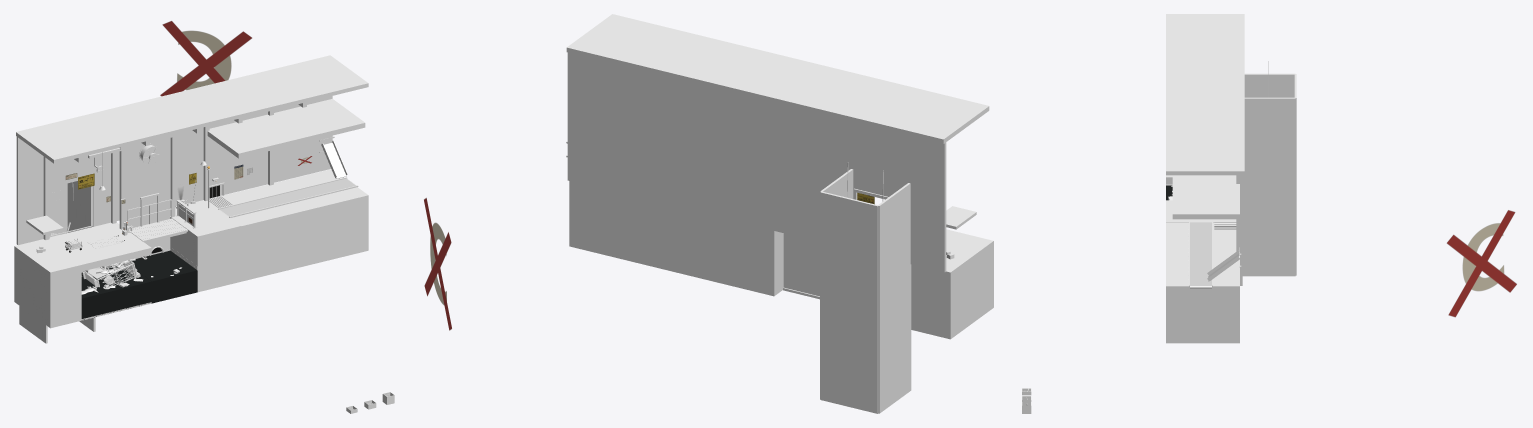
3 renders of one model, left to right at view 1: azimuth 30°, elevation 25°; view 2: azimuth 150°, elevation 25°; view 3: azimuth 270°, elevation 25°, orthographic. The views are drawn at different scales.
Parts seen in each view (by area): view 1: G4Walls, G4Floor, G4Shaft, AtriumRingC, G4Lift1Shaft, StoryFallWater, Sump7Water, G4Beams, MECH_ReturnsBelt_dl08_belt, G4HeadFrame, StoryFallWreck, MECH_CounterweightLift_dl08_platform (+5 smaller); view 2: G4Walls, G4Floor, G4Lift1Shaft, G4Shaft, AtriumRingC; view 3: G4Walls, G4Lift1Shaft, G4Floor, AtriumRingC, MECH_ReturnsBelt_dl08_belt.
Boxes of the visible parts, x1,y1,x2,y2 form: G4Walls: [16, 55, 368, 245]; G4Floor: [14, 169, 368, 328]; G4Shaft: [124, 138, 170, 249]; AtriumRingC: [160, 21, 251, 96]; G4Lift1Shaft: [19, 181, 95, 343]; StoryFallWater: [81, 263, 151, 319]; Sump7Water: [132, 250, 197, 303]; G4Beams: [43, 102, 306, 240]; MECH_ReturnsBelt_dl08_belt: [220, 178, 355, 216]; G4HeadFrame: [88, 134, 175, 229]; StoryFallWreck: [81, 255, 147, 294]; MECH_CounterweightLift_dl08_platform: [129, 218, 187, 242]; G4Walls: [566, 14, 989, 272]; G4Floor: [569, 181, 993, 339]; G4Lift1Shaft: [820, 169, 911, 413]; G4Shaft: [783, 233, 819, 299]; AtriumRingC: [424, 198, 451, 330]; G4Walls: [1166, 14, 1244, 285]; G4Lift1Shaft: [1242, 73, 1296, 276]; G4Floor: [1166, 175, 1239, 343]; AtriumRingC: [1447, 210, 1516, 317]; MECH_ReturnsBelt_dl08_belt: [1190, 222, 1211, 285].
Size of the model in its own units: 18.5 by 13.41 by 22.8.
49 materials, 17 textured.
